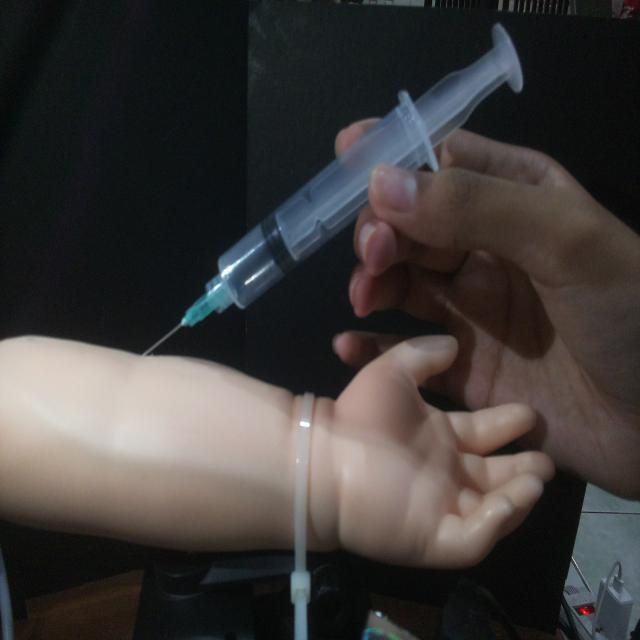29deg: (138, 19, 527, 358)
